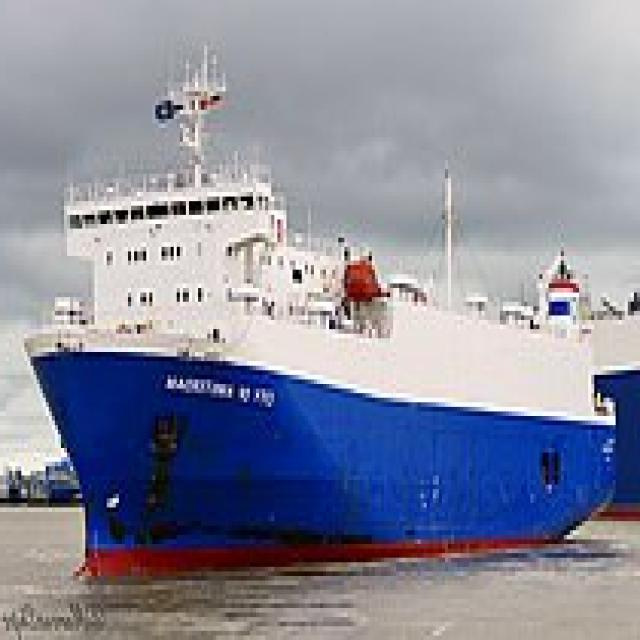Carrier: (24, 37, 625, 580)
